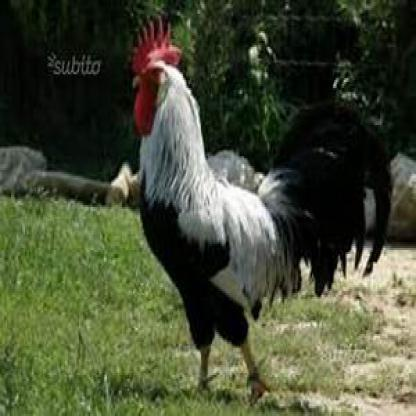chicken: (132, 16, 392, 404)
